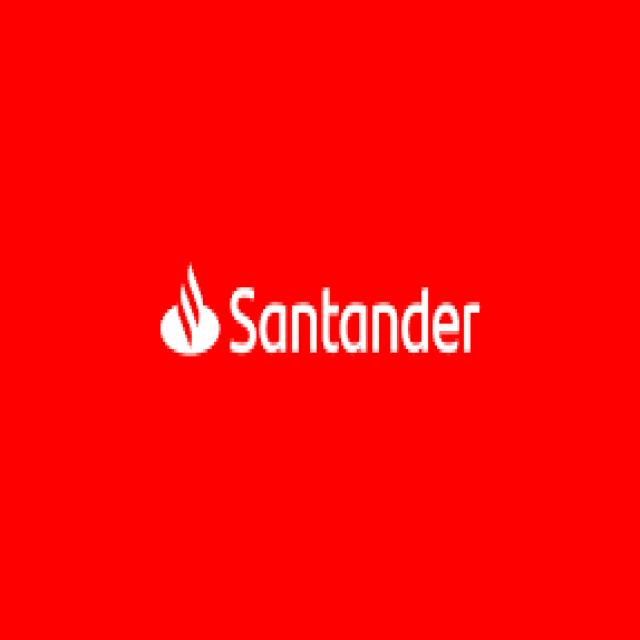santander: (160, 266, 220, 356)
